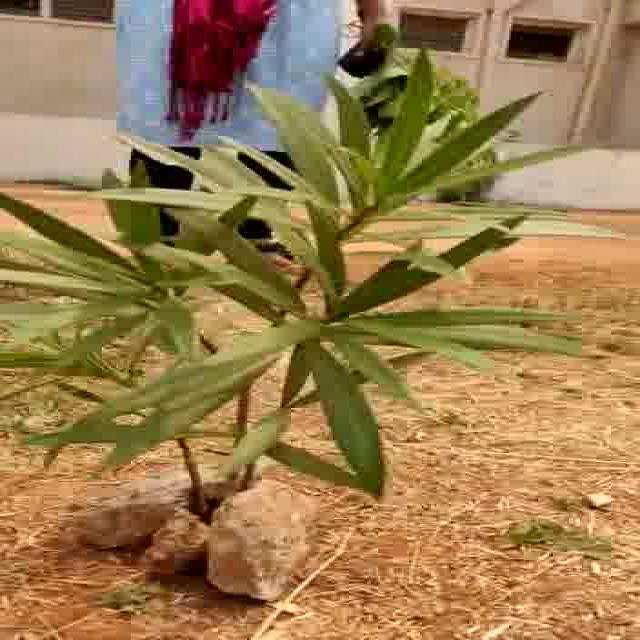Oleander: (30, 102, 551, 470)
